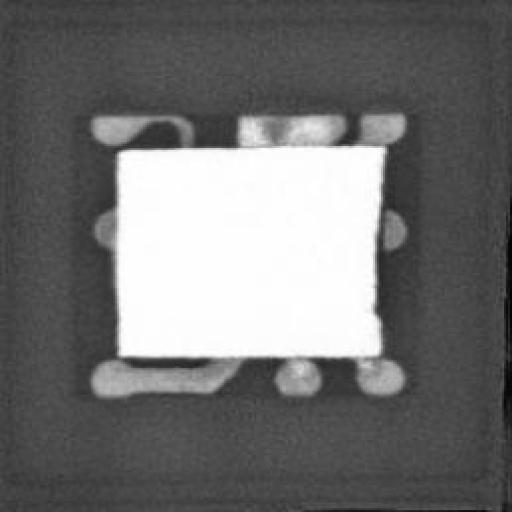DIE_BROKEN: (367, 201, 385, 324)
